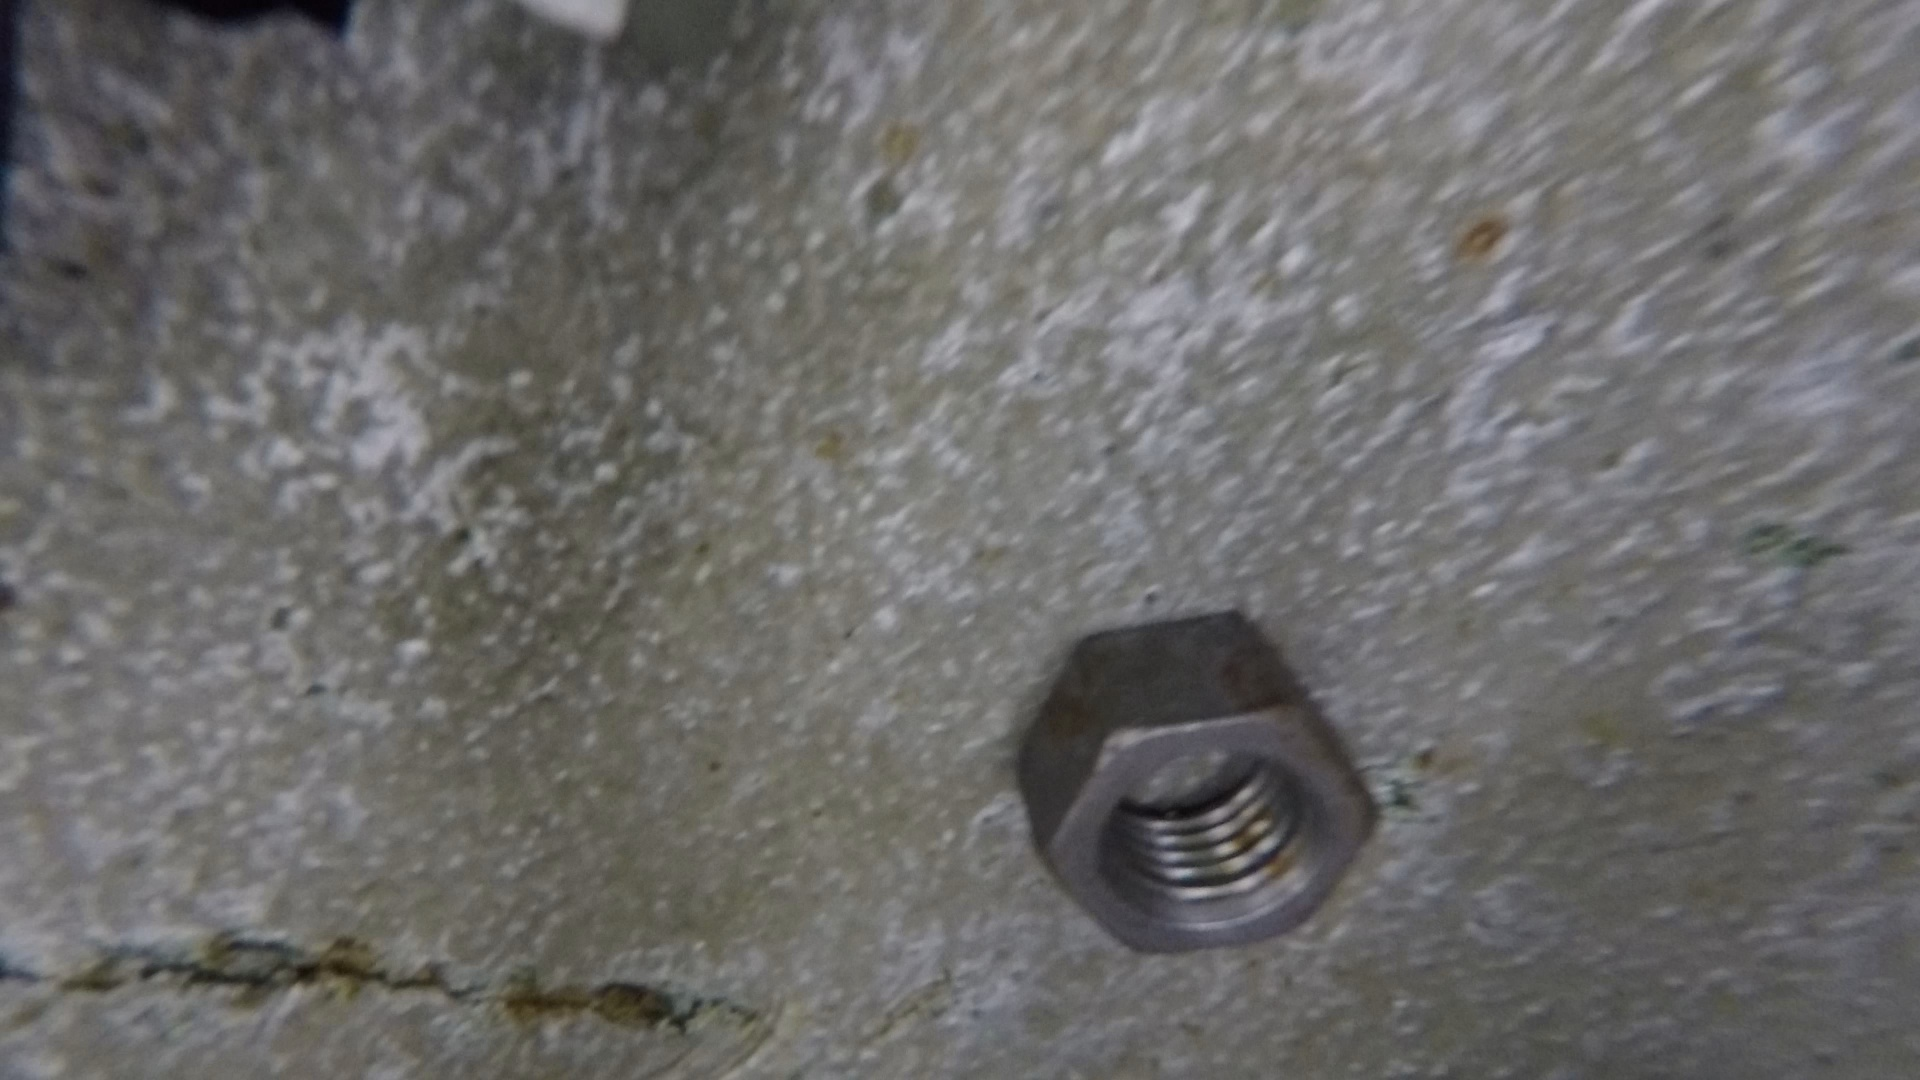nut: (1010, 609, 1385, 953)
